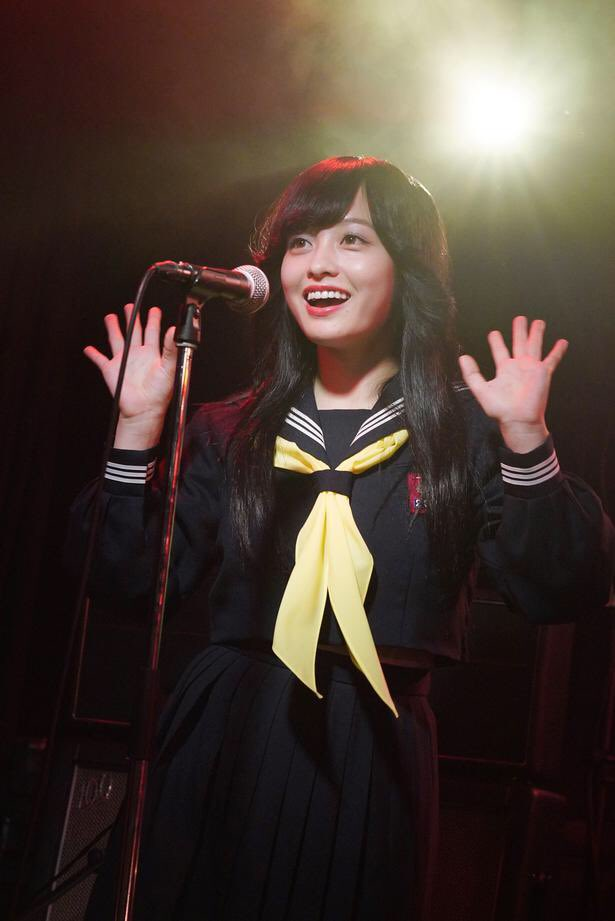face: (277, 182, 394, 344)
hand: (459, 315, 570, 420), (85, 303, 179, 422)
